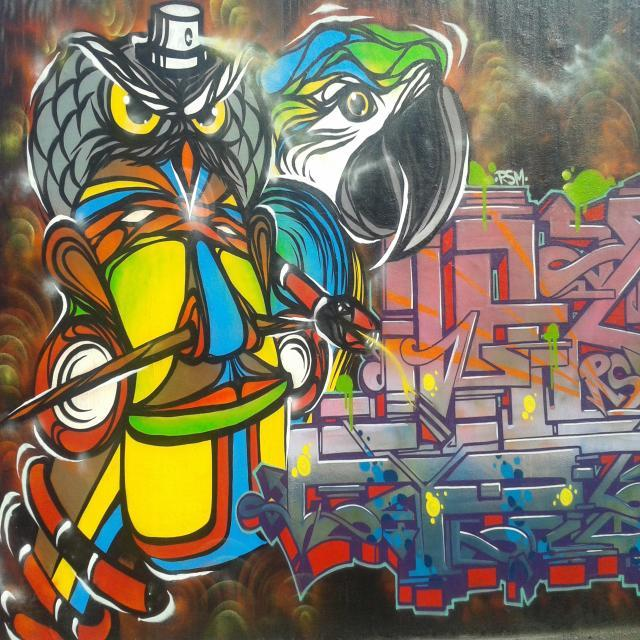-: (0, 0, 474, 640), (236, 187, 640, 619)
